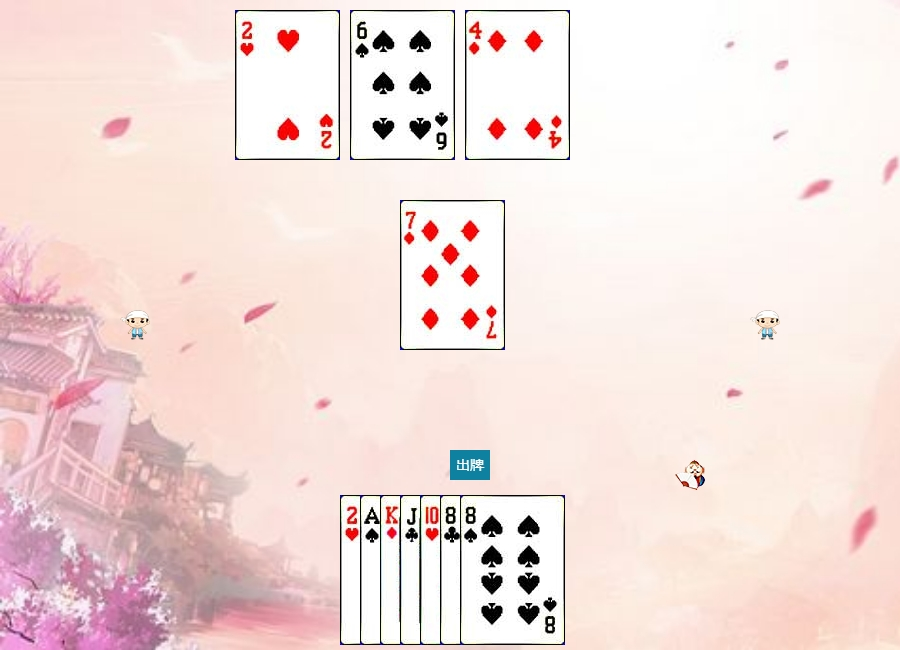10~3: (420, 495, 525, 645)
11~2: (400, 495, 505, 645)
13~1: (380, 495, 485, 645)
14~4: (360, 495, 465, 645)
15~3: (235, 10, 340, 160), (340, 495, 445, 645)
4~1: (465, 10, 570, 160)
6~4: (350, 10, 455, 160)
7~1: (400, 200, 505, 350)
8~2: (440, 495, 545, 645)
8~4: (460, 495, 565, 645)
